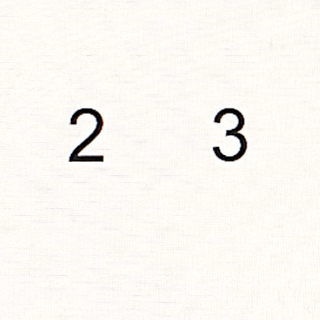three: (208, 104, 253, 165)
two: (65, 105, 111, 165)
